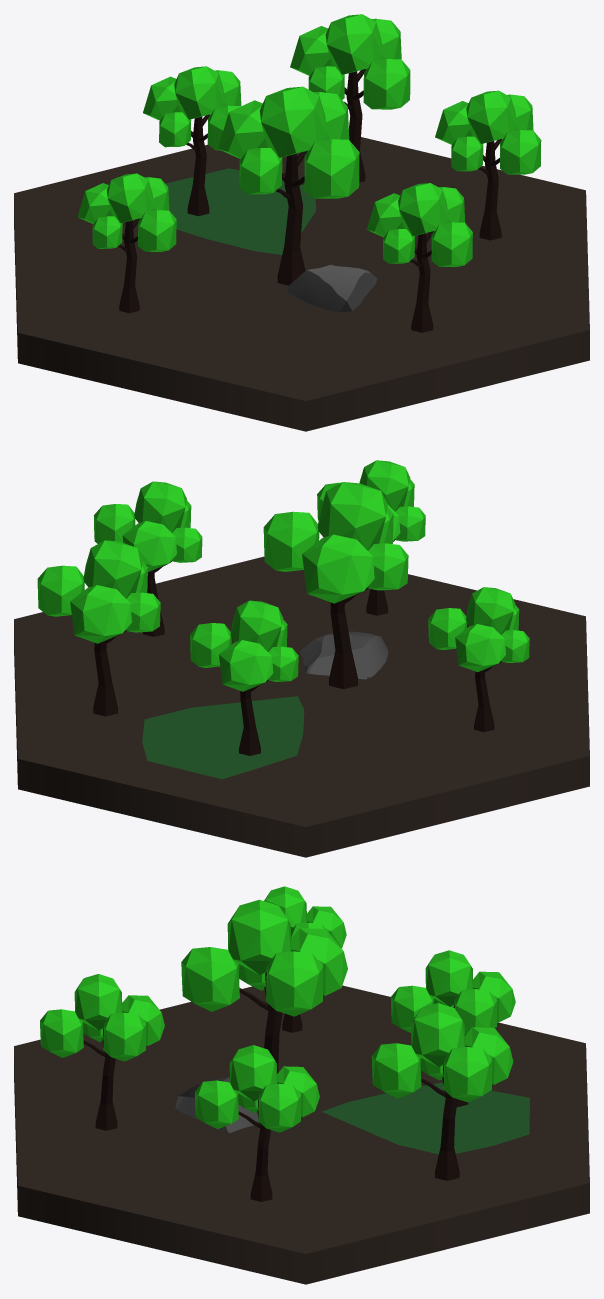
File: Tile_6.FBX
3 renders of one model, top to bottom at view 1: azimuth 30°, elevation 25°; view 2: azimuth 150°, elevation 25°; view 3: azimuth 270°, elevation 25°, orthographic.
Visible parts, largest first — view 1: Ground; view 2: Ground; view 3: Ground.
Boxes of the visible parts, left/top/right/bottom form: Ground: left=14, top=14, right=589, bottom=431; Ground: left=14, top=460, right=589, bottom=857; Ground: left=14, top=886, right=589, bottom=1284.
Bounding box in the file's own units: 38.57 × 16.59 × 33.63.
